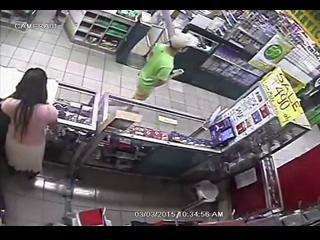Normal: (0, 68, 59, 182), (130, 33, 198, 102)
